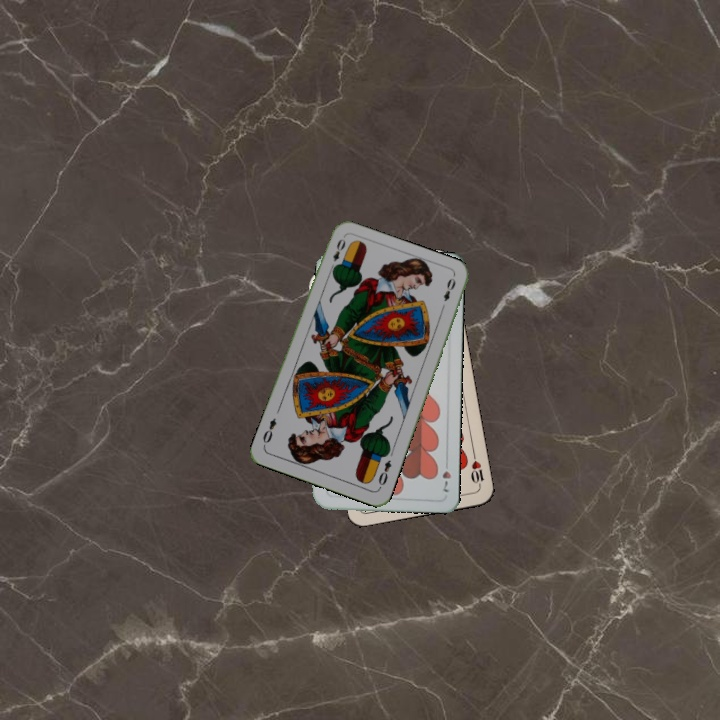EO: (326, 235, 348, 273), (374, 456, 394, 491)
H10: (467, 449, 486, 489)
H7: (438, 456, 454, 495)
